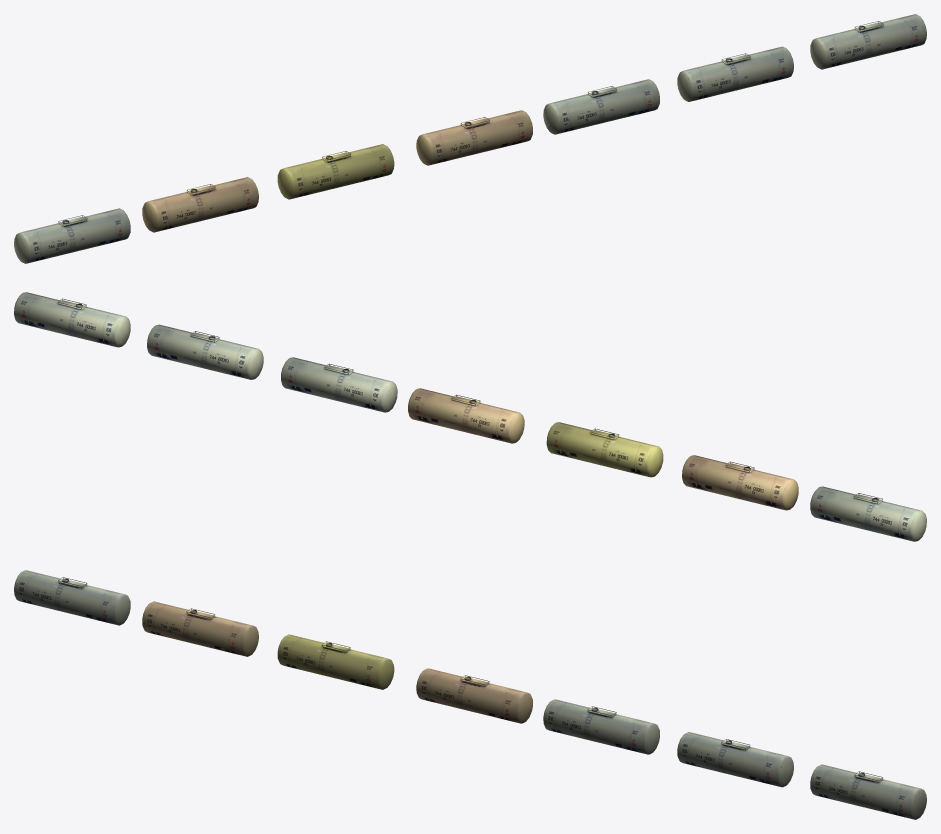
Rendered from vagons_cis.fbx.
The picture shows the model from 3 angles, top to bottom: view 1: azimuth 30°, elevation 25°; view 2: azimuth 150°, elevation 25°; view 3: azimuth 330°, elevation 25°; orthographic projection.
Parts seen in each view (by area): view 1: vagons_cis; view 2: vagons_cis; view 3: vagons_cis.
Boxes of the visible parts, left/top/right/bottom form: vagons_cis: left=14, top=14, right=926, bottom=263; vagons_cis: left=14, top=292, right=926, bottom=541; vagons_cis: left=14, top=570, right=926, bottom=819.
Size of the model in its own units: 99.48 by 3.24 by 3.03.
